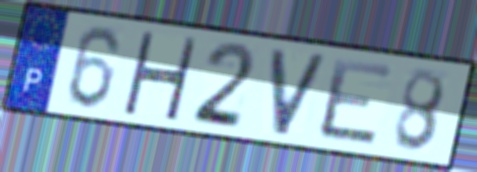2: (192, 40, 259, 133)
6: (65, 22, 123, 113)
8: (390, 67, 448, 154)
E: (316, 55, 397, 149)
H: (119, 28, 200, 123)
V: (268, 46, 330, 139)
